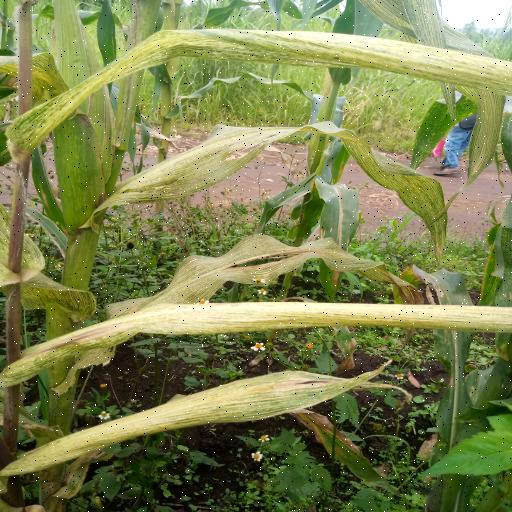Corn_Streak: (3, 29, 512, 166), (9, 271, 512, 388), (12, 351, 398, 486), (100, 127, 463, 230)
